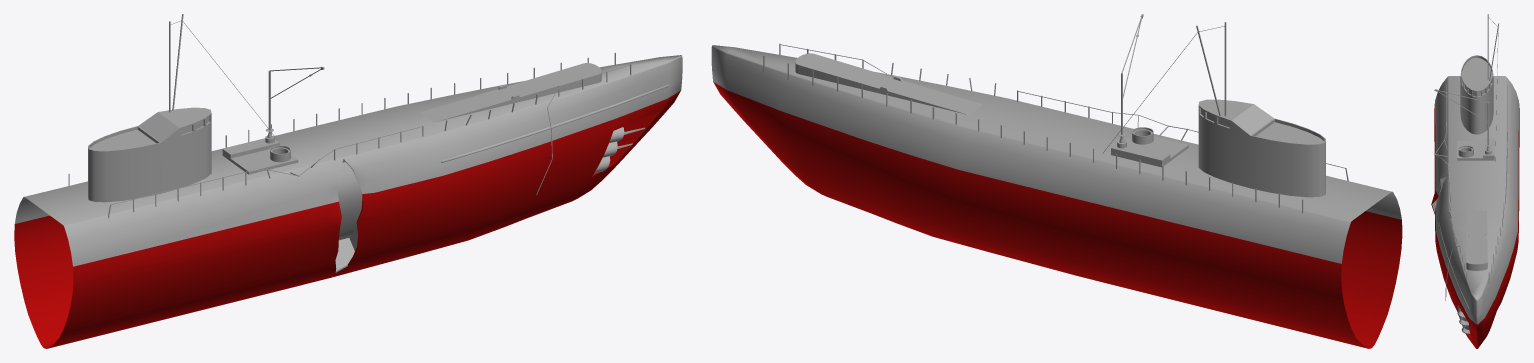
Rendered from PA_ExternalSub.fbx.
3 renders of one model, left to right at view 1: azimuth 30°, elevation 25°; view 2: azimuth 150°, elevation 25°; view 3: azimuth 270°, elevation 25°, orthographic. The views are drawn at different scales.
Visible parts, largest first — view 1: PA_ExternalSubMesh; view 2: PA_ExternalSubMesh; view 3: PA_ExternalSubMesh.
Boxes of the visible parts, <box> form: PA_ExternalSubMesh: <box>14,14,682,348</box>; PA_ExternalSubMesh: <box>711,14,1402,348</box>; PA_ExternalSubMesh: <box>1431,14,1519,348</box>.
Size of the model in its own units: 236 by 102 by 39.36.
